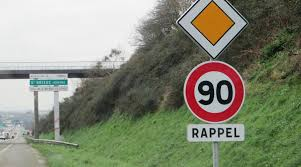Speed_limit_90km: (184, 61, 245, 123)
